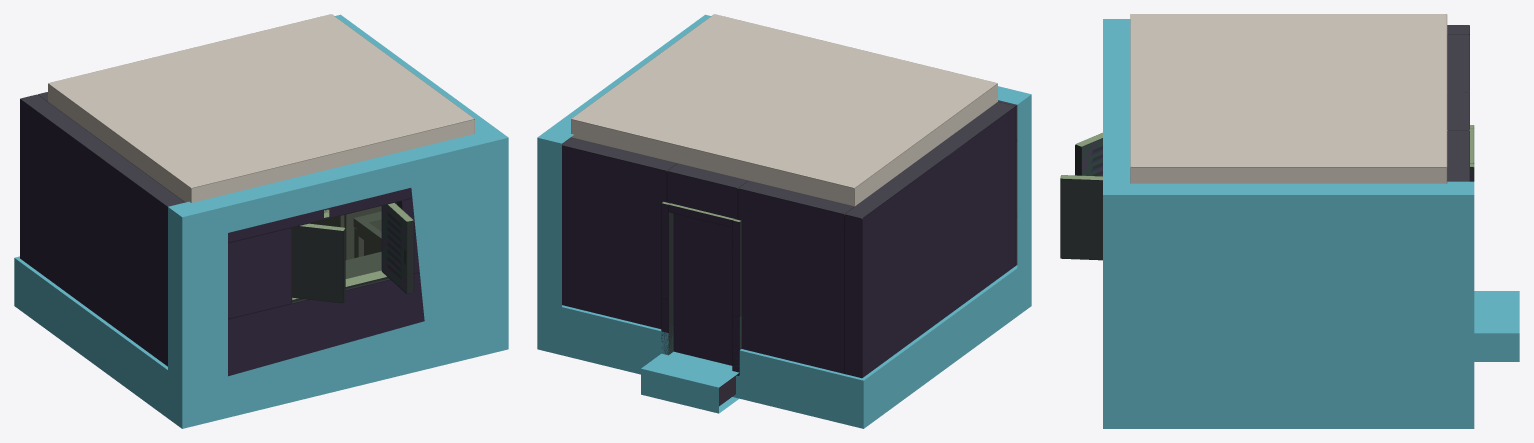
File: broken_room_Kitchen.fbx
The picture shows the model from 3 angles, left to right: view 1: azimuth 30°, elevation 25°; view 2: azimuth 150°, elevation 25°; view 3: azimuth 270°, elevation 25°; orthographic projection. The views are drawn at different scales.
Parts seen in each view (by area): view 1: map border, cuboid_2, wall behind_6, wall behind_8, wall behind_9, cuboid_13, cuboid_12, wall behind_1, sink border, fridge border, counter border, frames_2; view 2: cuboid_2, map border, wall behind_6, wall behind_11, wall behind_5, door, frames_1, wall behind_7, frames; view 3: map border, cuboid_2, cuboid_12, wall behind_11, wall behind_5, cuboid_13, wall behind_7.
Part boxes in pixels (box(x1,y1,x2,y2)): map border: box(14, 14, 508, 428); cuboid_2: box(48, 14, 474, 202); wall behind_6: box(20, 94, 184, 366); wall behind_8: box(228, 272, 424, 376); wall behind_9: box(228, 227, 291, 318); cuboid_13: box(292, 223, 345, 303); cuboid_12: box(381, 203, 414, 293); wall behind_1: box(228, 188, 412, 242); sink border: box(353, 211, 381, 258); fridge border: box(310, 206, 381, 260); counter border: box(345, 251, 381, 278); frames_2: box(292, 202, 396, 301); cuboid_2: box(571, 14, 997, 206); map border: box(537, 14, 1031, 428); wall behind_6: box(844, 102, 1015, 378); wall behind_11: box(738, 181, 853, 373); wall behind_5: box(562, 137, 676, 328); door: box(673, 213, 732, 365); frames_1: box(661, 201, 741, 375); wall behind_7: box(667, 163, 747, 220); frames: box(661, 298, 741, 375); map border: box(1103, 19, 1519, 428); cuboid_2: box(1130, 14, 1447, 183); cuboid_12: box(1060, 175, 1102, 260); wall behind_11: box(1447, 34, 1469, 91); wall behind_5: box(1447, 130, 1469, 181); cuboid_13: box(1075, 132, 1102, 176); wall behind_7: box(1447, 92, 1469, 130).
Size of the model in its own units: 1150 by 762 by 1268.
13 materials, 13 textured.
